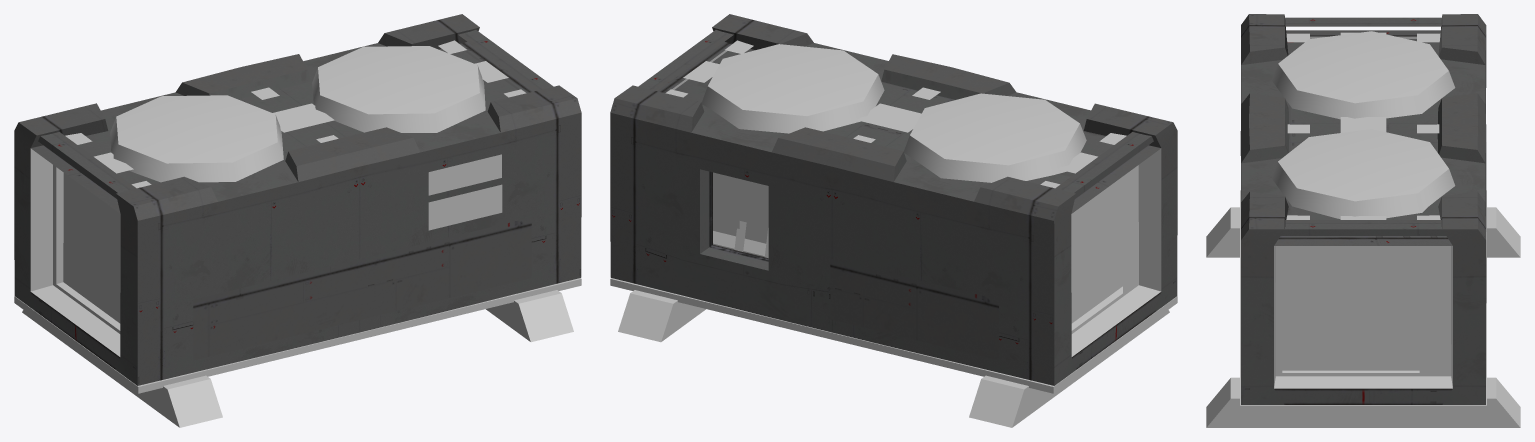
Rendered from Prop8_L3.fbx.
3 views of the same model, side by side, from view 1: azimuth 30°, elevation 25°; view 2: azimuth 150°, elevation 25°; view 3: azimuth 270°, elevation 25° (orthographic).
Visible parts, largest first — view 1: polySurface2722; view 2: polySurface2722; view 3: polySurface2722.
Boxes of the visible parts, bbox=[...] form: polySurface2722: bbox=[14, 14, 581, 427]; polySurface2722: bbox=[610, 14, 1177, 427]; polySurface2722: bbox=[1206, 14, 1520, 427].
Size of the model in its own units: 252 by 120 by 155.
